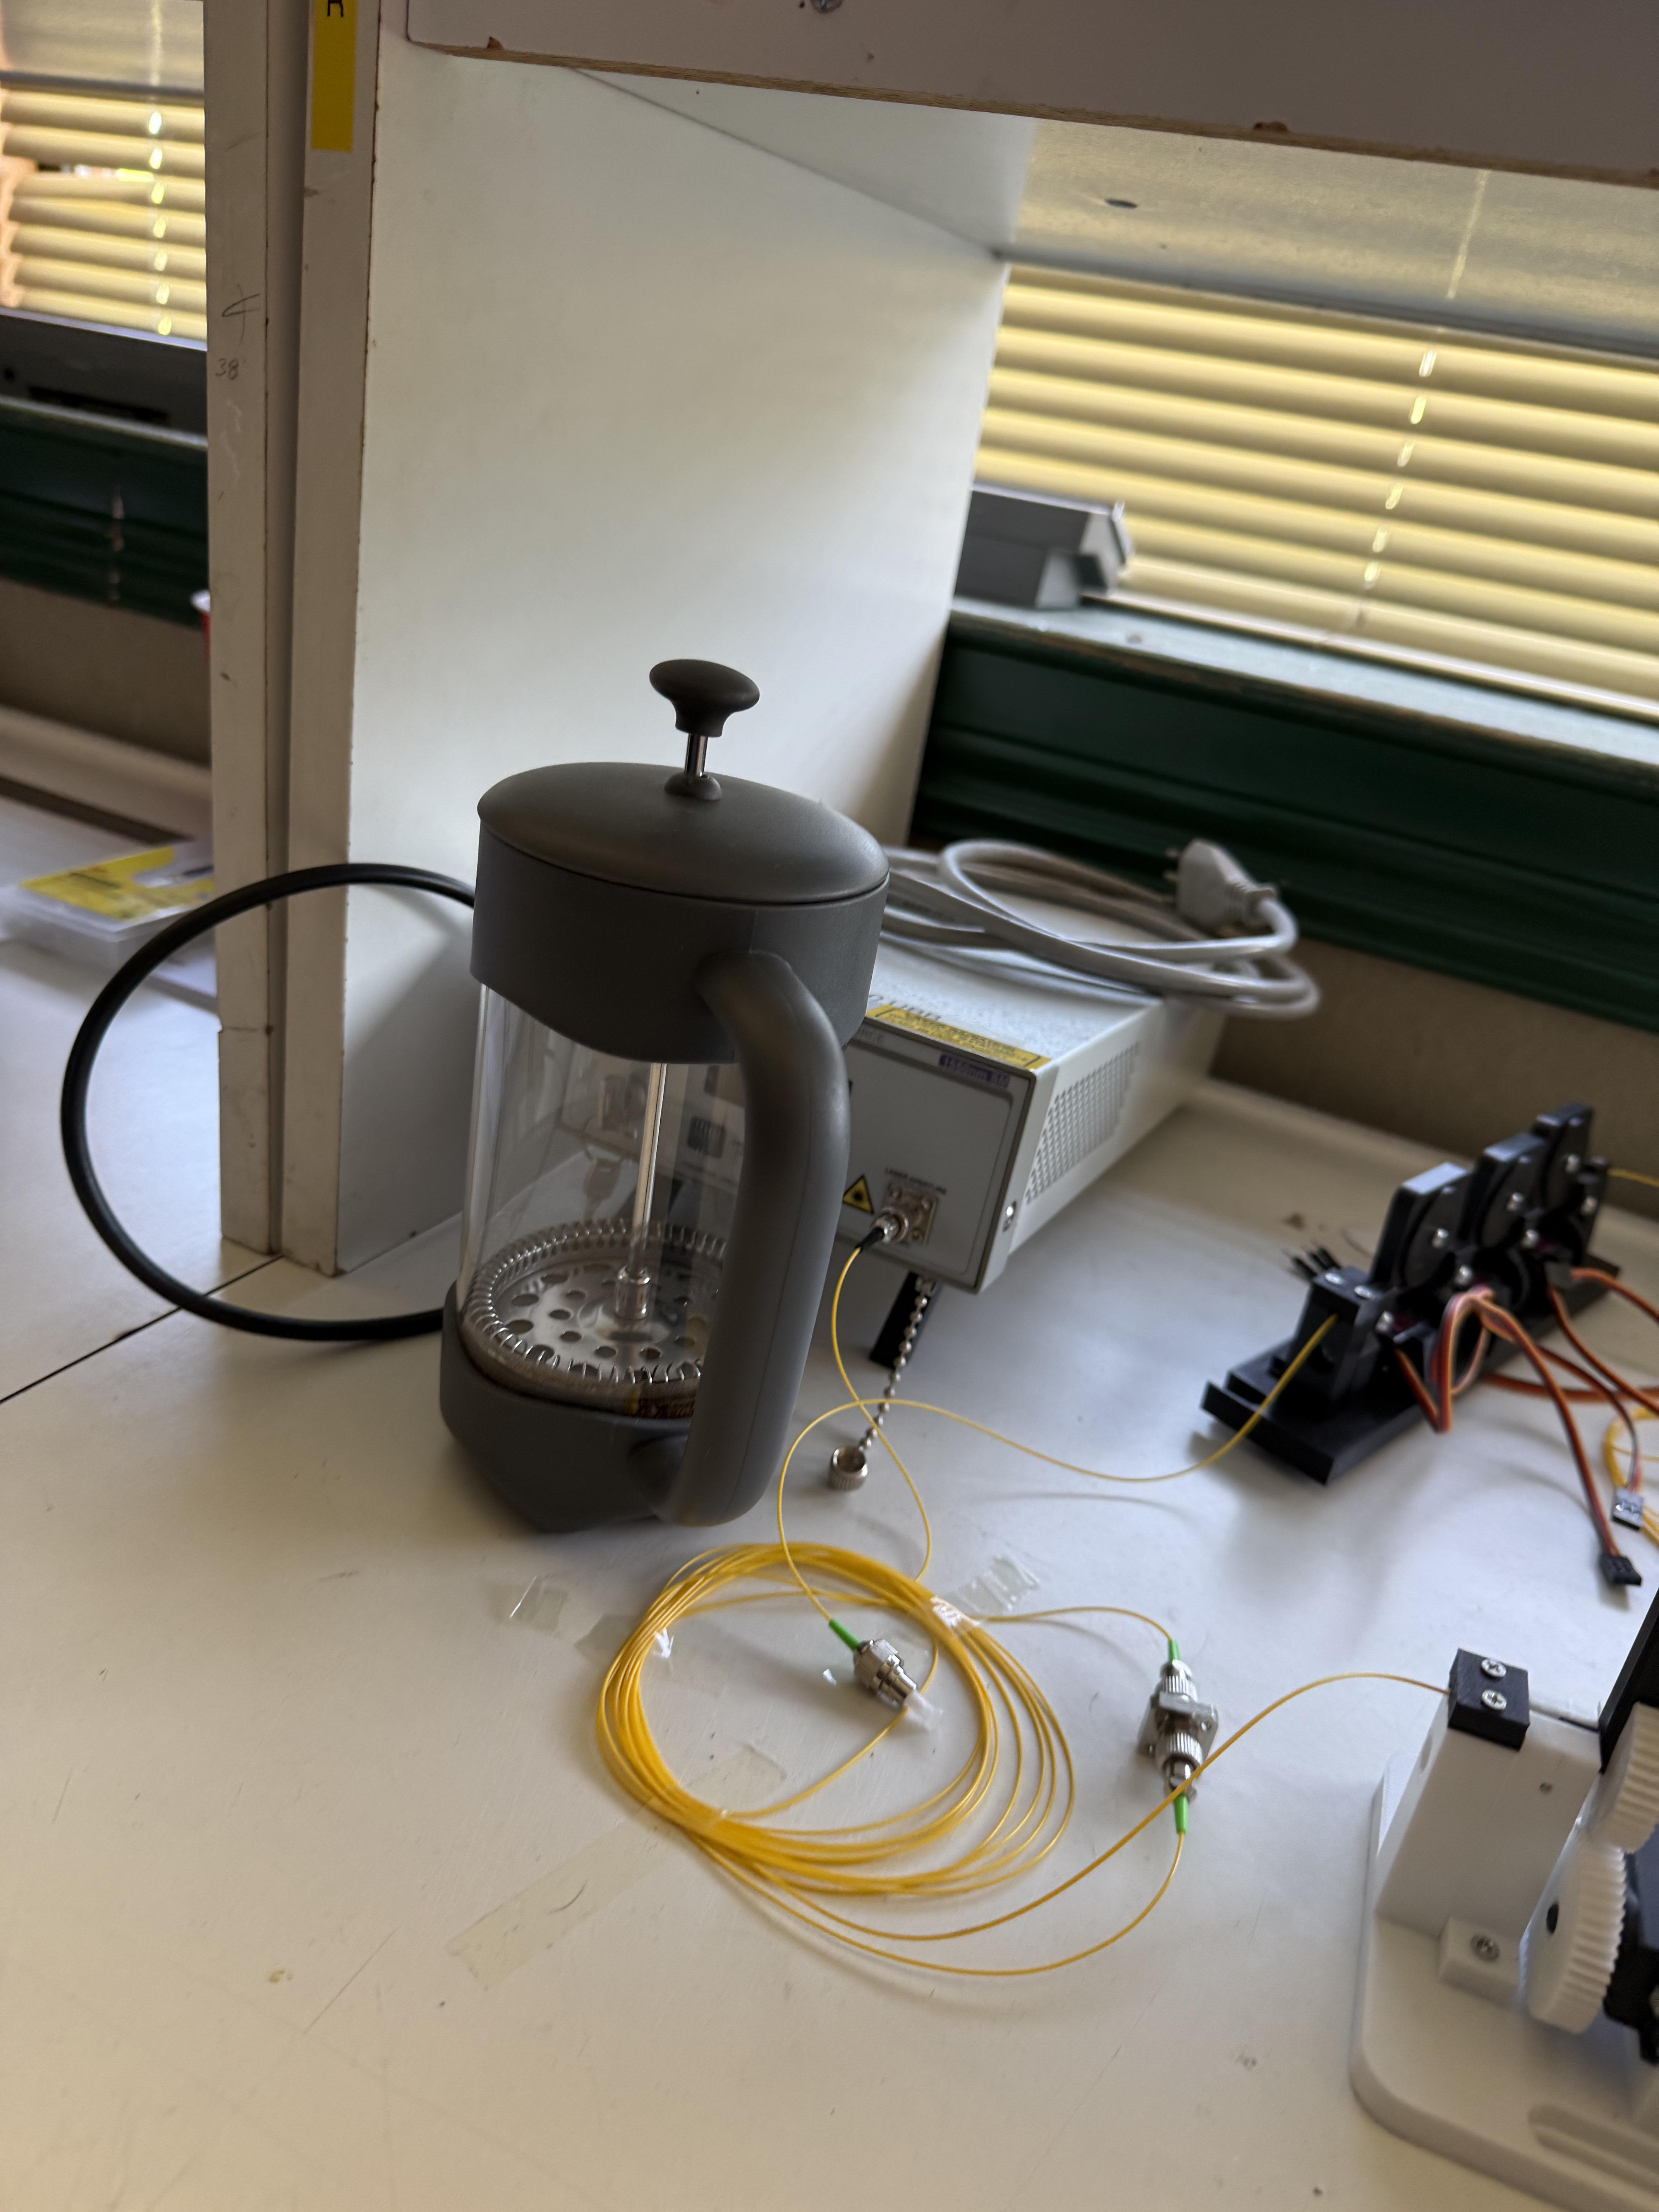laser: (530, 775, 1340, 1399)
paddle_polarization_controller: (1302, 1576, 1654, 2212), (1154, 1085, 1638, 1533)
